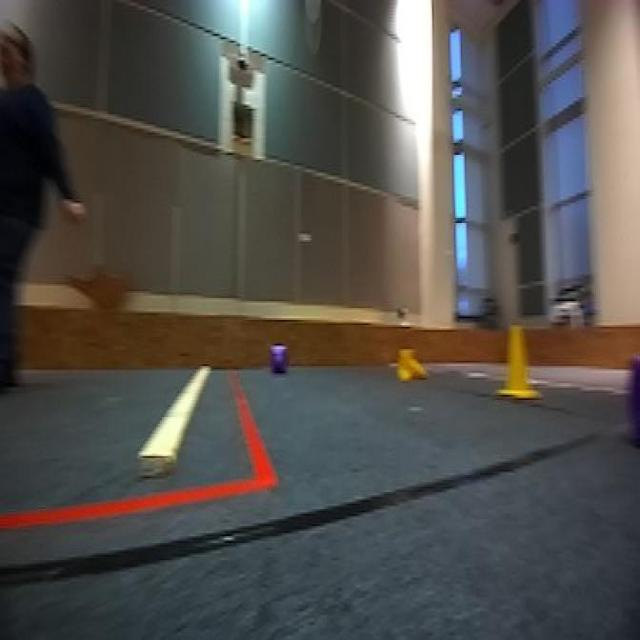frc_cone: (497, 322, 535, 405), (393, 346, 426, 383)
frc_cube: (268, 344, 290, 378)
